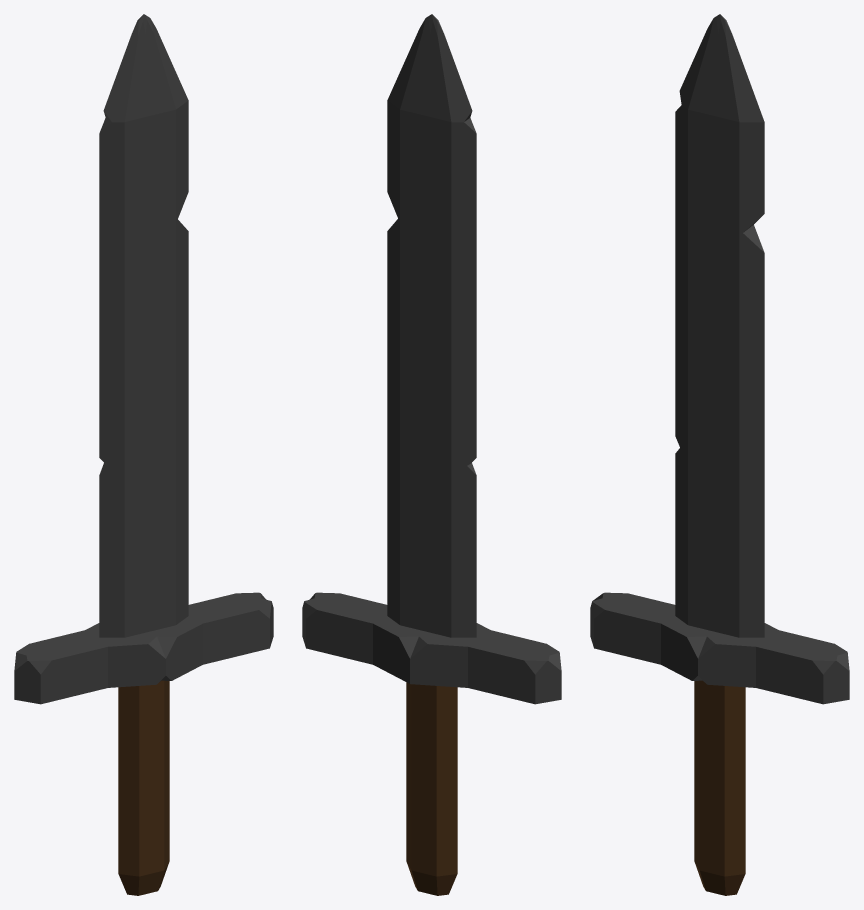
The model's file is StoneSword.glb.
The picture shows the model from 3 angles, left to right: view 1: azimuth 30°, elevation 25°; view 2: azimuth 150°, elevation 25°; view 3: azimuth 330°, elevation 25°; orthographic projection.
Visible parts, largest first — view 1: sword stone; view 2: sword stone; view 3: sword stone.
Part boxes in pixels (x1=…): sword stone: x1=14, y1=14, x2=273, y2=895; sword stone: x1=302, y1=14, x2=561, y2=895; sword stone: x1=590, y1=14, x2=849, y2=895.
Bounding box in the file's own units: 0.2562 × 0.8276 × 0.0749.
